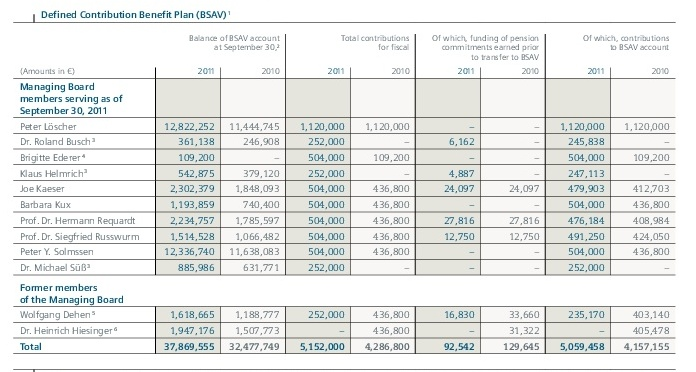table: (0, 0, 696, 372)
